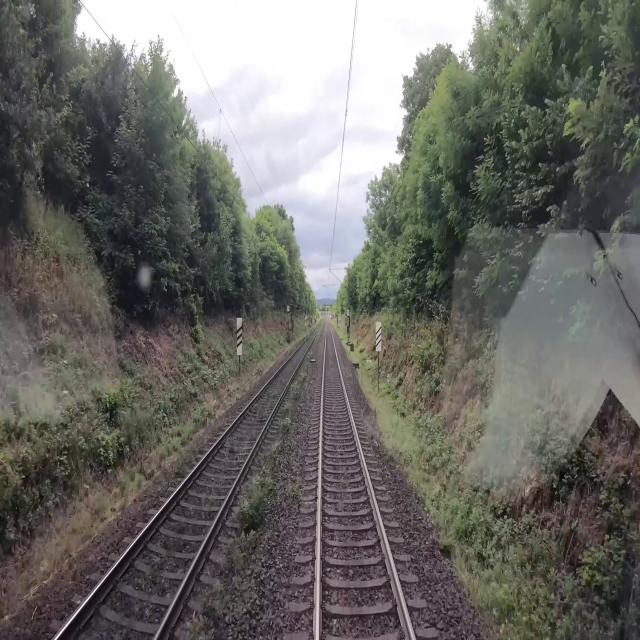Plant: (276, 346, 319, 443), (235, 471, 285, 533), (287, 474, 305, 510)
